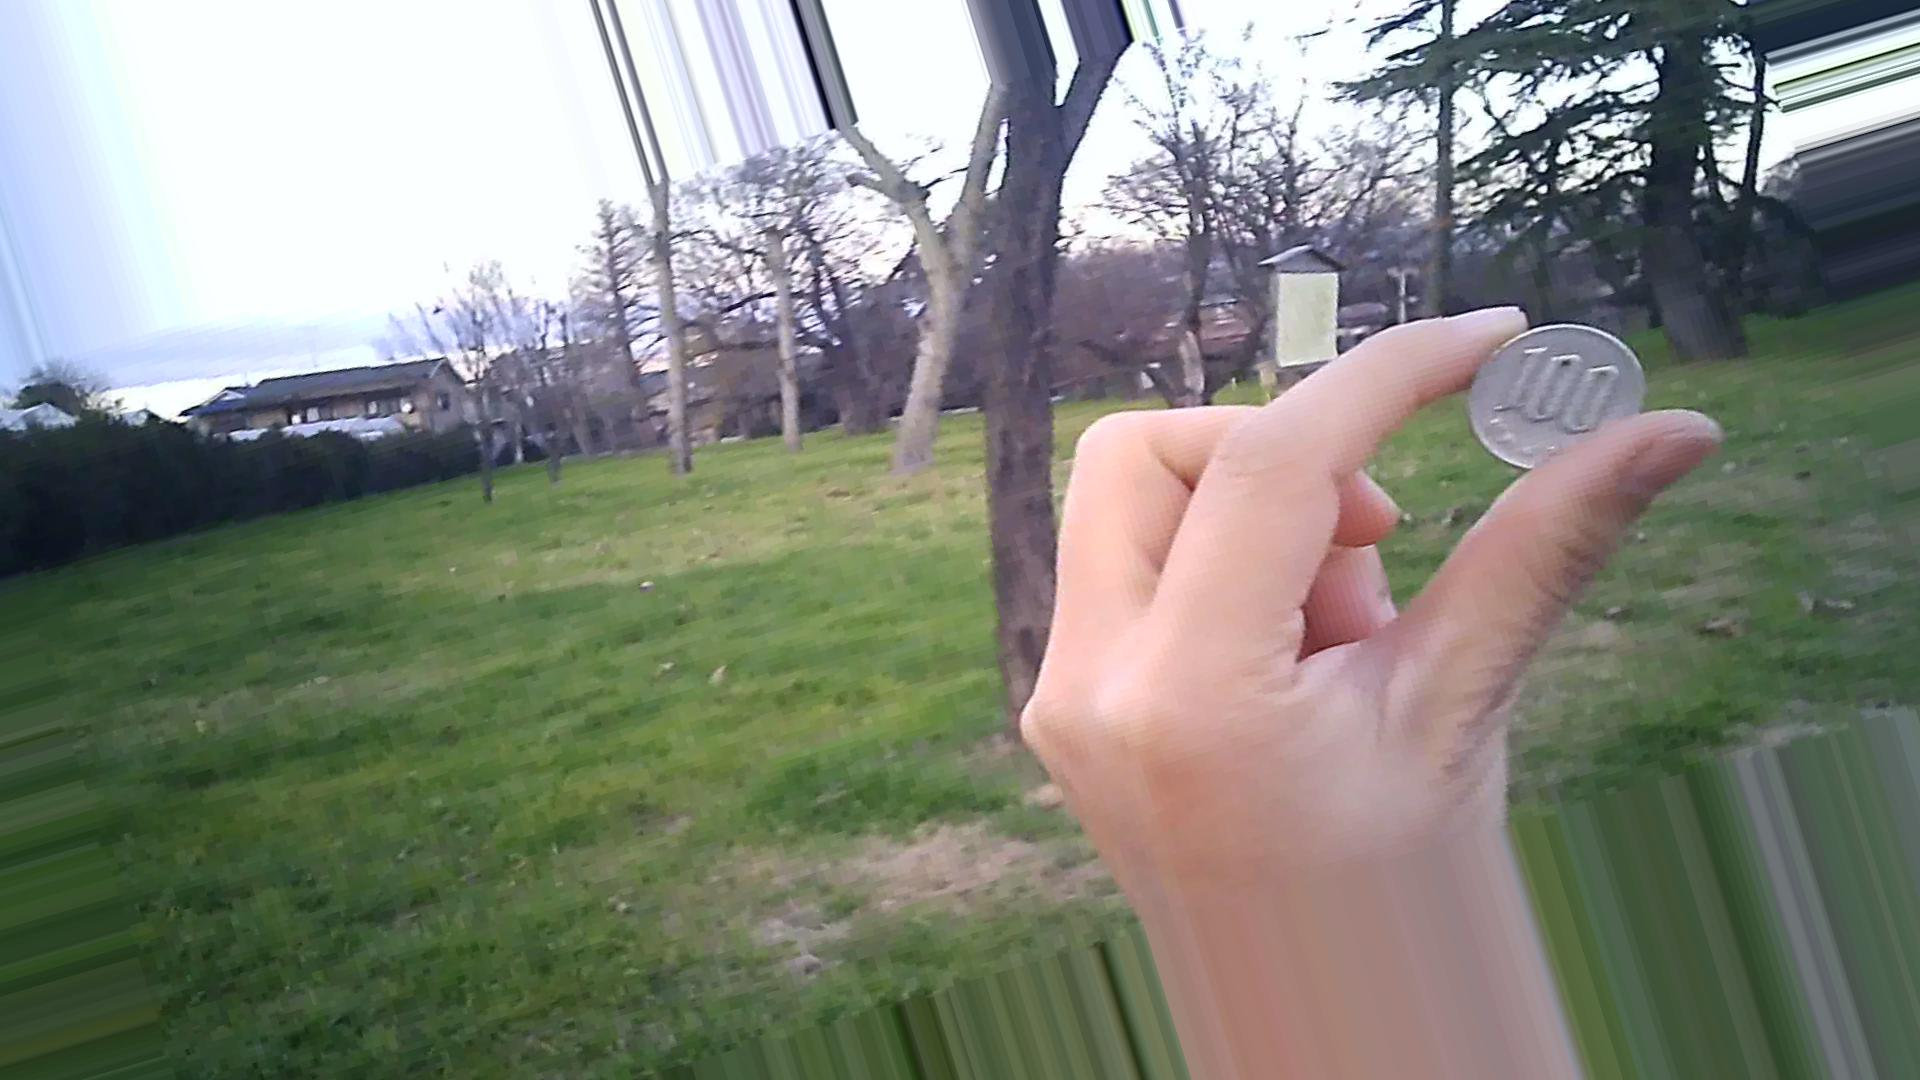100 Yen: (1456, 319, 1634, 498)
